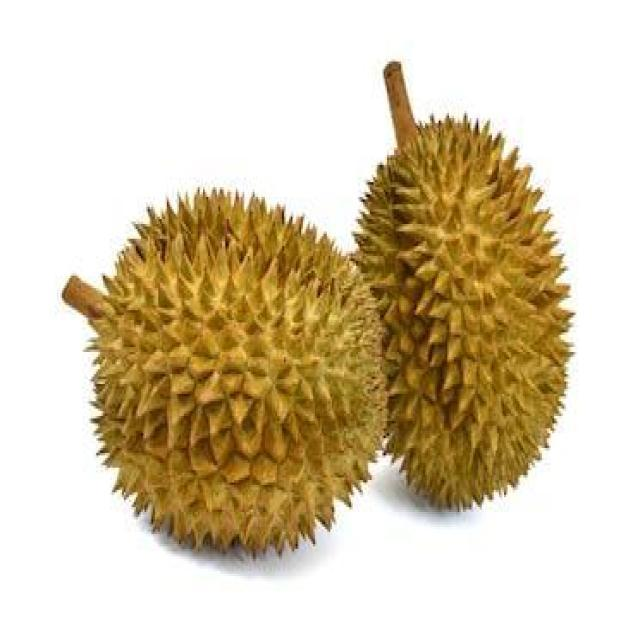mature: (92, 191, 385, 552), (356, 120, 570, 507)
